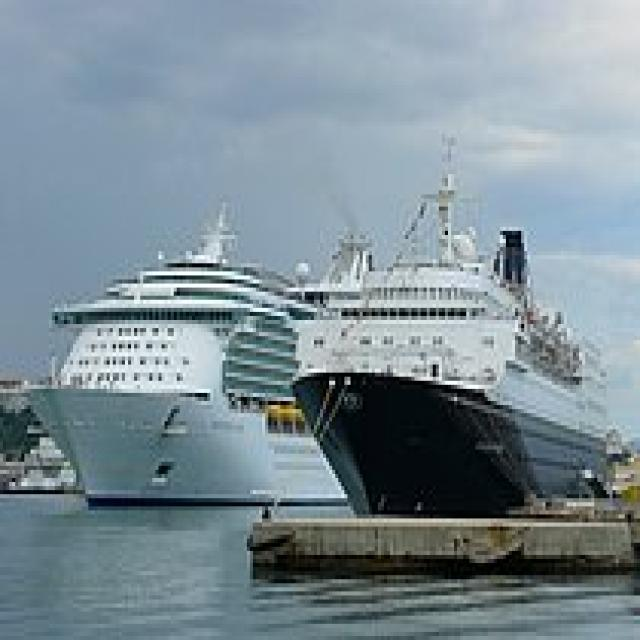Cruise: (286, 126, 616, 518), (12, 190, 363, 507)
